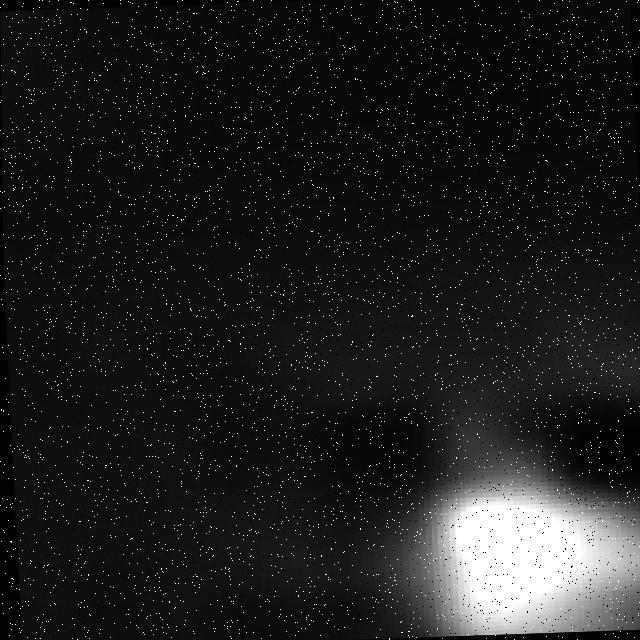person: (218, 439, 640, 640)
